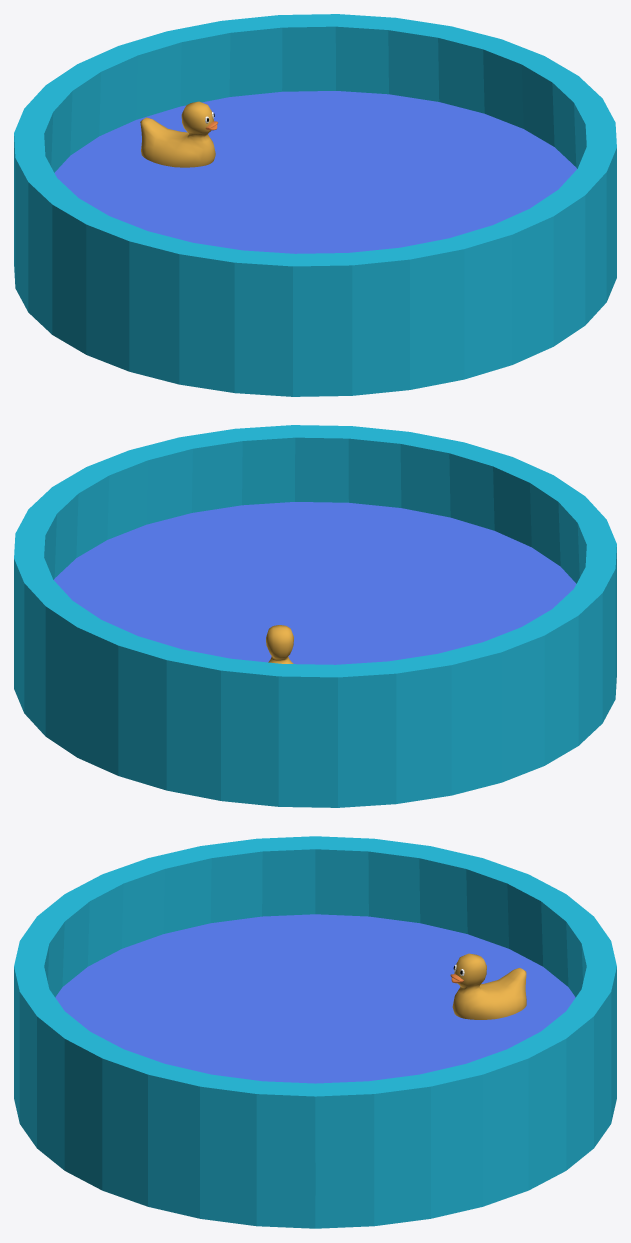
3 renders of one model, top to bottom at view 1: azimuth 30°, elevation 25°; view 2: azimuth 150°, elevation 25°; view 3: azimuth 270°, elevation 25°, orthographic.
Visible parts, largest first — view 1: Cylinder, RubberDuckBody; view 2: Cylinder, RubberDuckBody; view 3: Cylinder, RubberDuckBody.
Boxes of the visible parts, <box> form: Cylinder: <box>14,14,616,396</box>; RubberDuckBody: <box>140,101,215,167</box>; Cylinder: <box>14,425,616,807</box>; RubberDuckBody: <box>266,625,293,663</box>; Cylinder: <box>14,836,616,1228</box>; RubberDuckBody: <box>452,953,526,1019</box>.
Size of the model in its own units: 9.5 by 2.25 by 9.3.
